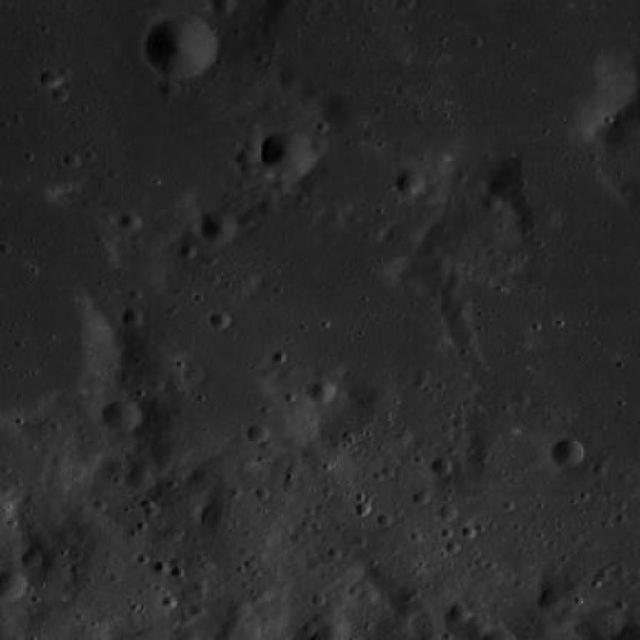crater: (514, 166, 628, 266), (145, 15, 218, 80), (258, 128, 317, 180), (102, 398, 142, 434), (382, 221, 422, 256), (200, 209, 238, 243), (551, 439, 584, 467), (394, 170, 426, 196), (0, 571, 26, 600), (308, 378, 336, 404), (125, 468, 153, 492), (446, 308, 472, 332), (537, 591, 563, 614), (452, 325, 474, 347), (157, 78, 180, 98), (40, 68, 62, 88), (116, 212, 138, 232), (236, 148, 258, 168), (246, 423, 268, 443), (20, 550, 42, 570), (552, 613, 574, 632), (121, 310, 142, 328), (210, 0, 236, 14), (209, 312, 229, 330), (432, 458, 452, 476), (449, 604, 469, 622), (438, 504, 458, 521), (177, 243, 196, 260), (50, 88, 70, 104), (258, 202, 278, 218), (510, 392, 530, 408), (482, 194, 500, 211), (440, 298, 458, 314), (237, 211, 254, 226), (626, 570, 640, 588)
